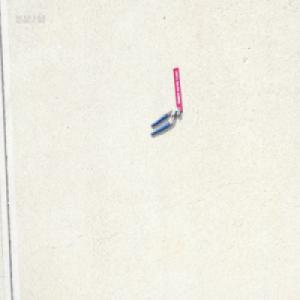Label: (173, 66, 183, 112)
Pliers: (150, 106, 181, 136)
